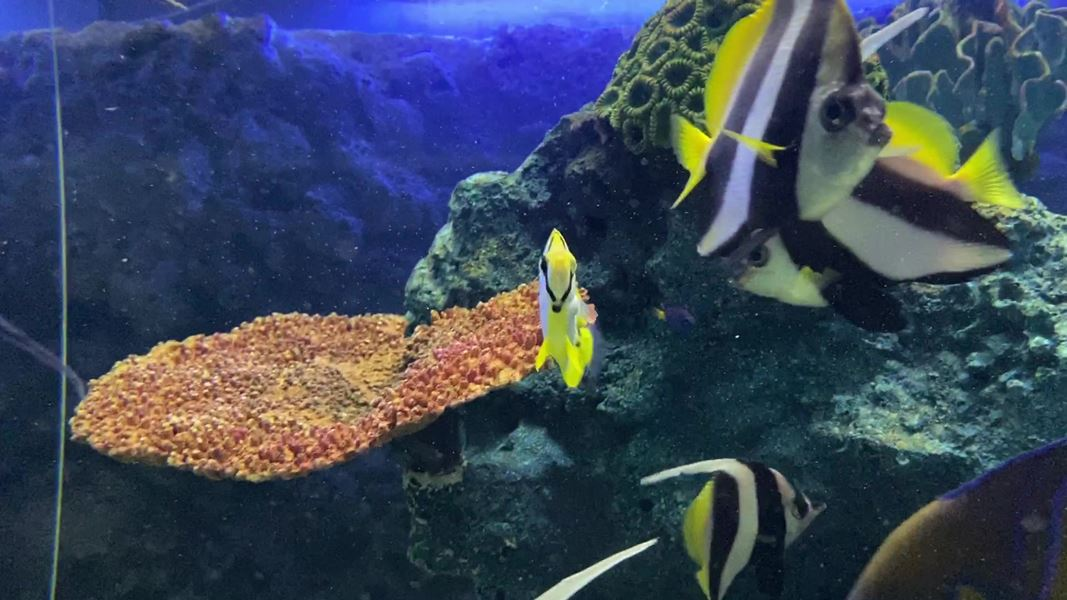Black-backed butterflyfish: (521, 219, 619, 404)
